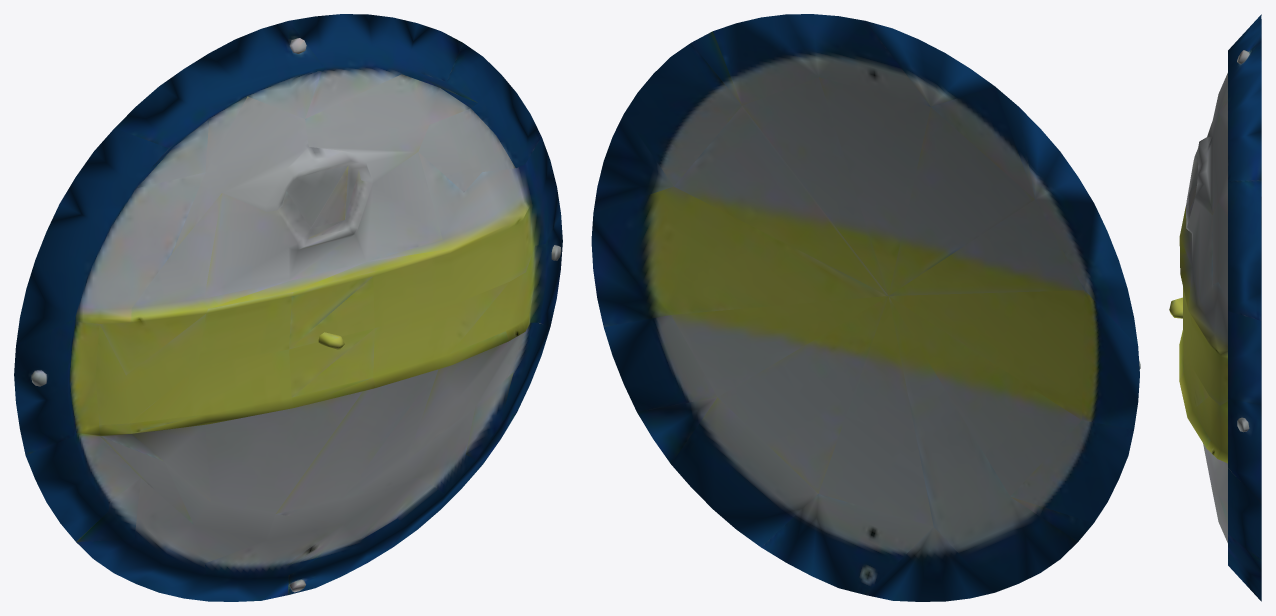
Rendered from m_shield_round.fbx.
The picture shows the model from 3 angles, left to right: view 1: azimuth 30°, elevation 25°; view 2: azimuth 150°, elevation 25°; view 3: azimuth 270°, elevation 25°; orthographic projection. The views are drawn at different scales.
Parts seen in each view (by area): view 1: tripo_node_ecd7f6ac-f341-4bea-a12b-00443ca55ef8; view 2: tripo_node_ecd7f6ac-f341-4bea-a12b-00443ca55ef8; view 3: tripo_node_ecd7f6ac-f341-4bea-a12b-00443ca55ef8.
Part boxes in pixels (box(x1,y1,x2,y2)): tripo_node_ecd7f6ac-f341-4bea-a12b-00443ca55ef8: box(14, 14, 562, 601); tripo_node_ecd7f6ac-f341-4bea-a12b-00443ca55ef8: box(591, 14, 1140, 601); tripo_node_ecd7f6ac-f341-4bea-a12b-00443ca55ef8: box(1169, 14, 1261, 601).
Bounding box in the file's own units: 0.78 × 0.78 × 0.1223.
1 material, 1 textured.
